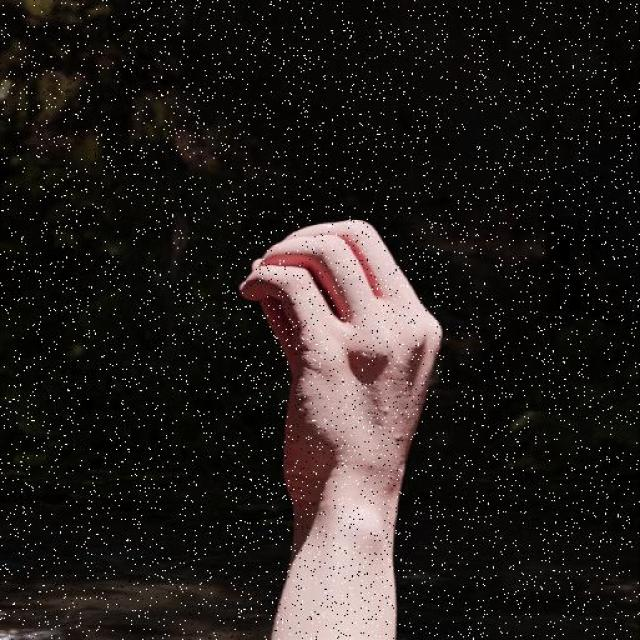O: (232, 216, 458, 536)
